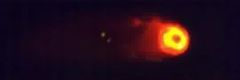keyhole: (171, 32, 184, 44)
